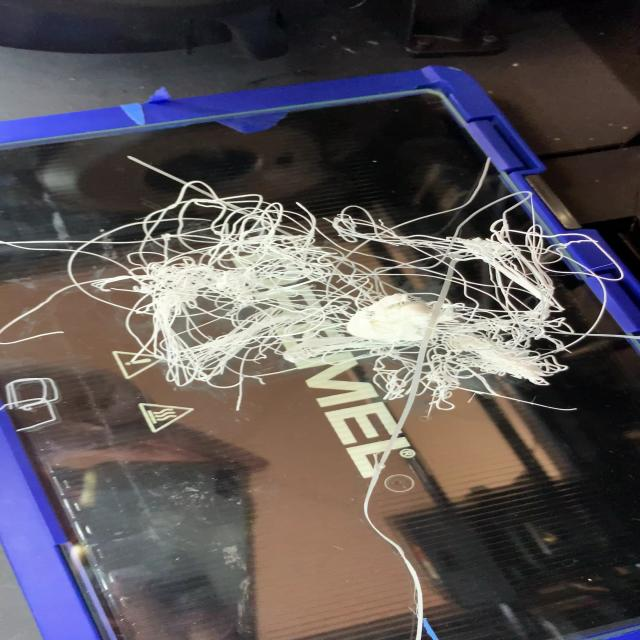spaghetti: (3, 156, 633, 420)
